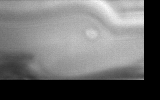cell: (82, 24, 101, 42)
